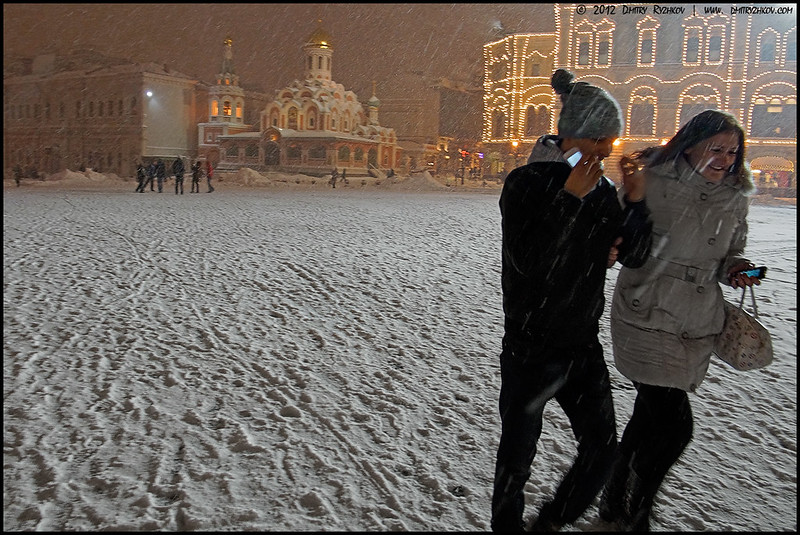phone: (562, 149, 595, 197)
